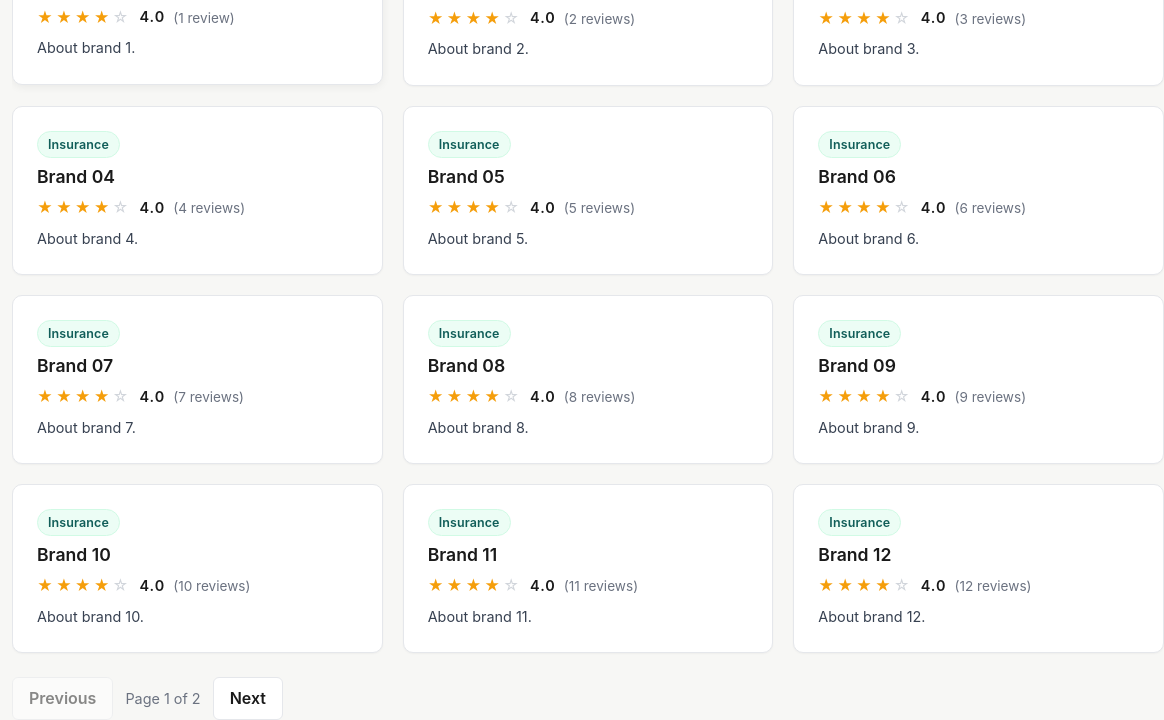
Test case: pagination › counts pages exactly: 24 brands make 2 page(s)
The image size is (1164, 720).
(page scrolled)
Check: the text "Page 1 of 2" is shown, box top-left (125, 688), bottom-right (201, 710)
Click the button "Next". click: (248,699)
box: top-left (213, 677), bottom-right (283, 719)
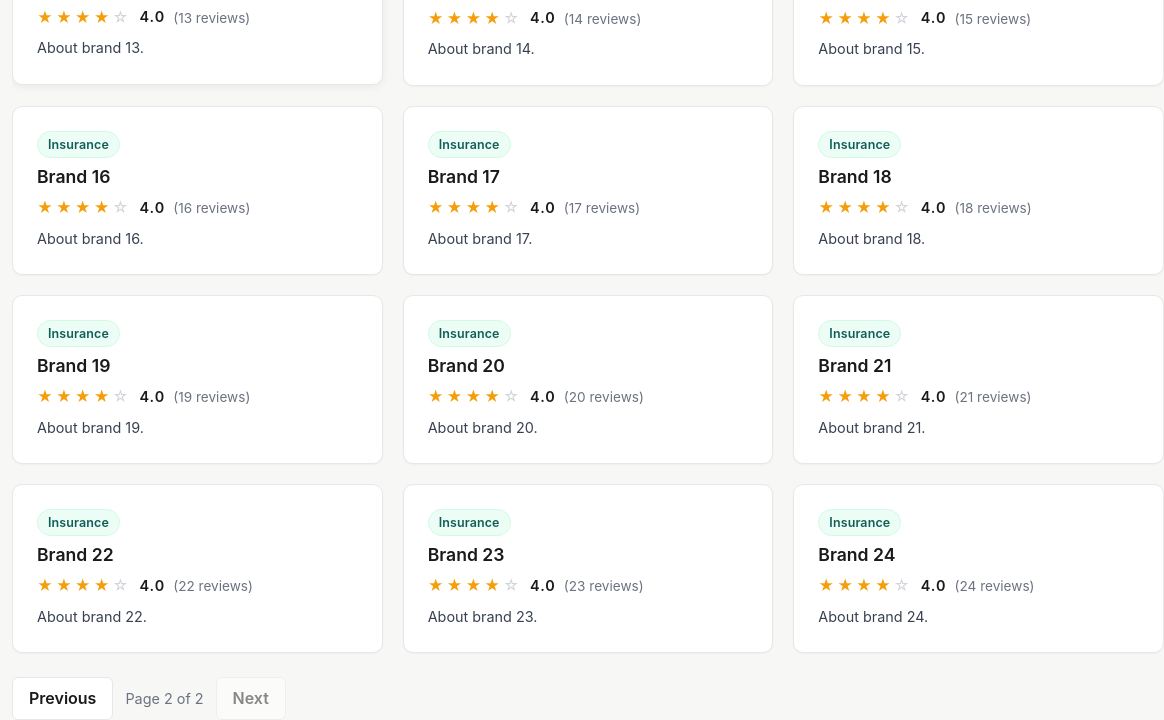
Check: the text "Page 2 of 2" is shown, box top-left (125, 688), bottom-right (204, 710)
Check: the button "Next" is disabled, box top-left (216, 677), bottom-right (286, 719)
